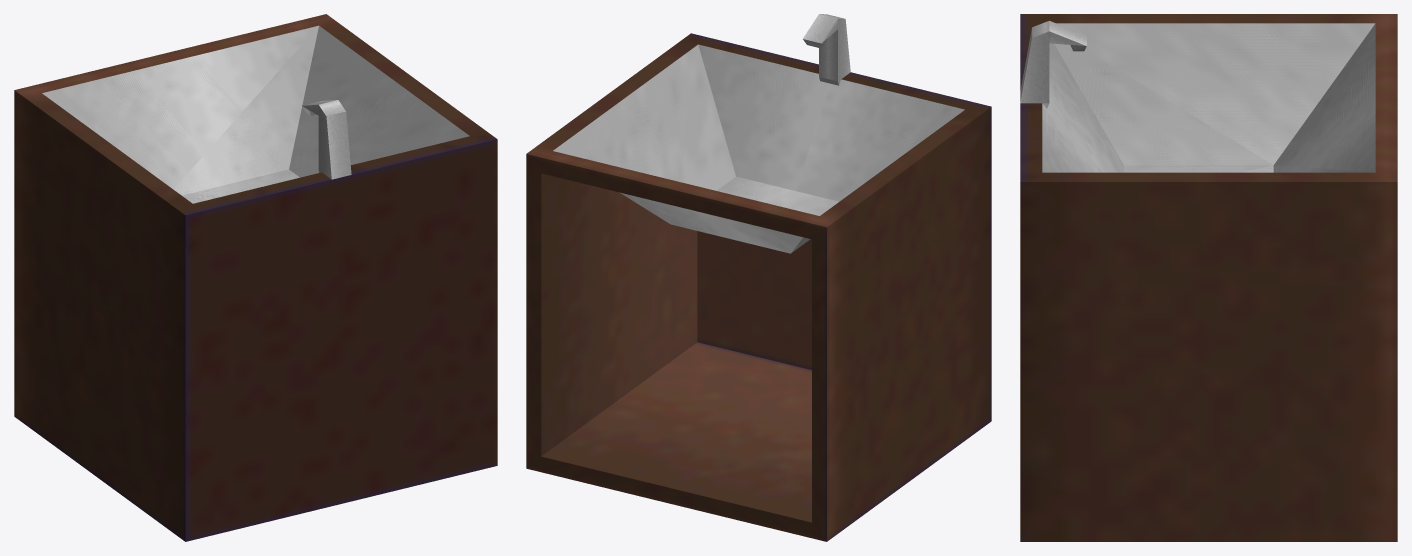
File: smallsinkcabinet.fbx
3 views of the same model, side by side, from view 1: azimuth 30°, elevation 25°; view 2: azimuth 150°, elevation 25°; view 3: azimuth 270°, elevation 25° (orthographic). The views are drawn at different scales.
Visible parts, largest first — view 1: Small Sink Cabinet; view 2: Small Sink Cabinet; view 3: Small Sink Cabinet.
Part boxes in pixels (<box>): Small Sink Cabinet: <box>14,14,497,541</box>; Small Sink Cabinet: <box>526,14,991,541</box>; Small Sink Cabinet: <box>1020,14,1397,541</box>.
Bounding box in the file's own units: 1.14 × 1.08 × 1.37.
Materials: 3 (3 with a texture image).
